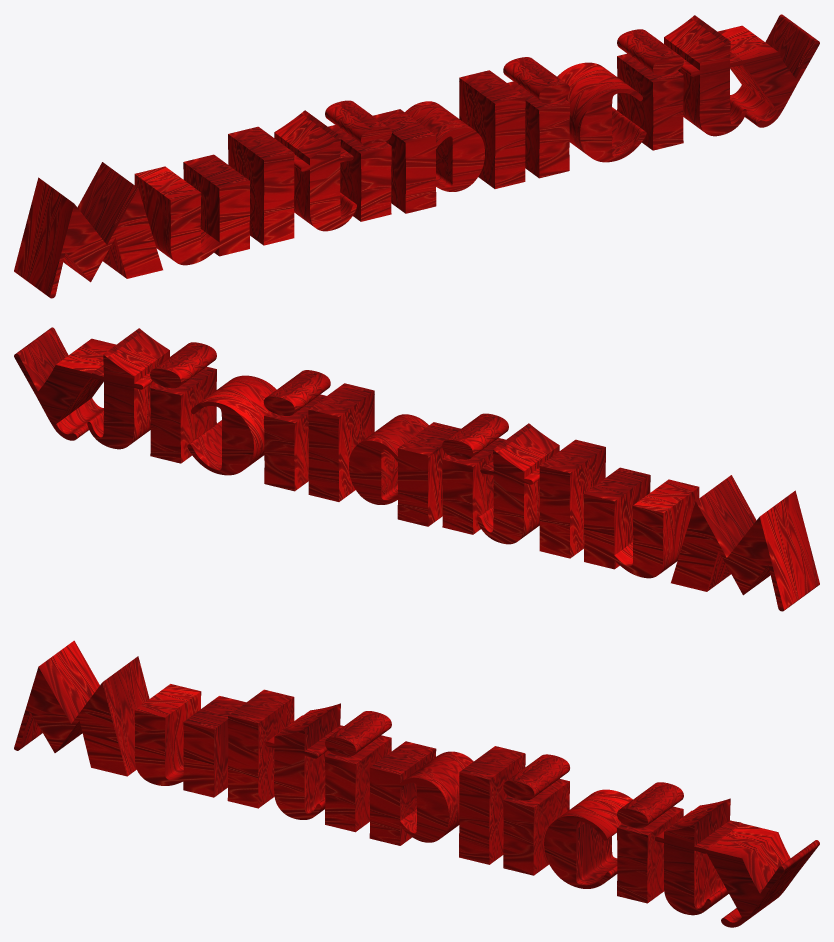
The model's file is Title.FBX.
3 renders of one model, top to bottom at view 1: azimuth 30°, elevation 25°; view 2: azimuth 150°, elevation 25°; view 3: azimuth 330°, elevation 25°, orthographic.
Visible parts, largest first — view 1: Text001; view 2: Text001; view 3: Text001.
Part boxes in pixels (<box>): Text001: <box>14,14,819,298</box>; Text001: <box>14,327,819,611</box>; Text001: <box>14,640,819,927</box>.
Bounding box in the file's own units: 55.64 × 6.51 × 4.5.
